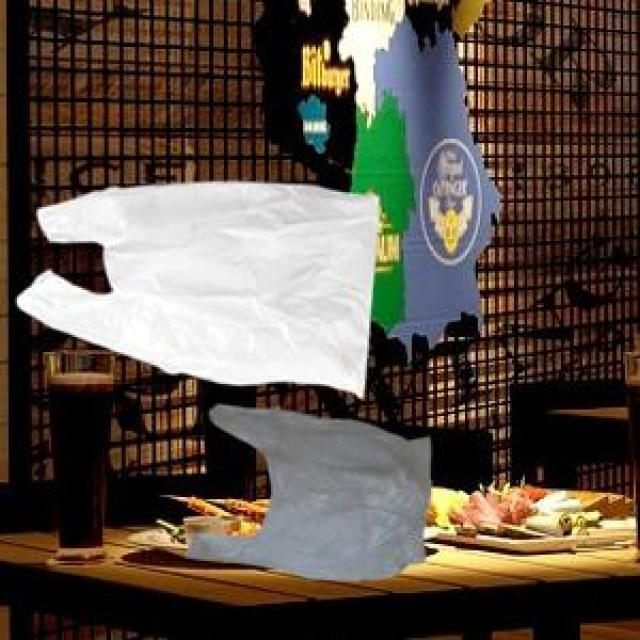plastic: (9, 150, 491, 594)
